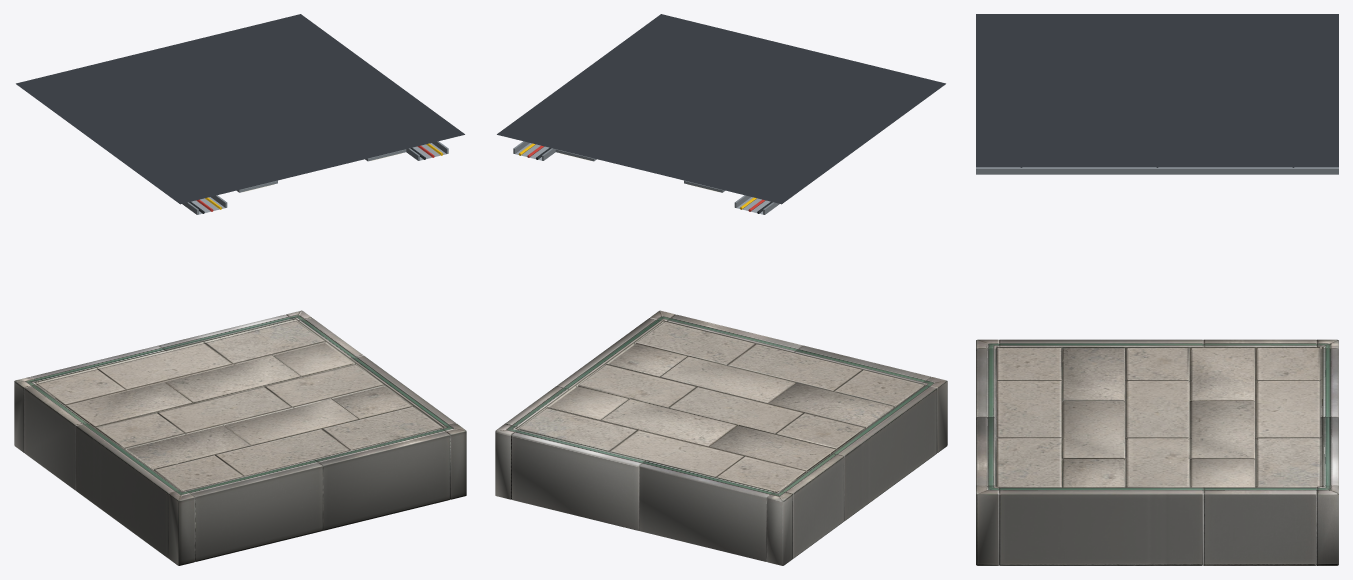
File: floor_a.fbx
The picture shows the model from 3 angles, left to right: view 1: azimuth 30°, elevation 25°; view 2: azimuth 150°, elevation 25°; view 3: azimuth 270°, elevation 25°; orthographic projection. The views are drawn at different scales.
Visible parts, largest first — view 1: floor_a, Ceiling; view 2: floor_a, Ceiling; view 3: floor_a, Ceiling.
Boxes of the visible parts, box(x1,y1,x2,y2) form: floor_a: box(14, 310, 466, 565); Ceiling: box(16, 14, 464, 214); floor_a: box(495, 310, 947, 565); Ceiling: box(497, 14, 945, 214); floor_a: box(976, 339, 1338, 565); Ceiling: box(976, 14, 1338, 174).
Bounding box in the file's own units: 4.03 × 4.84 × 4.
